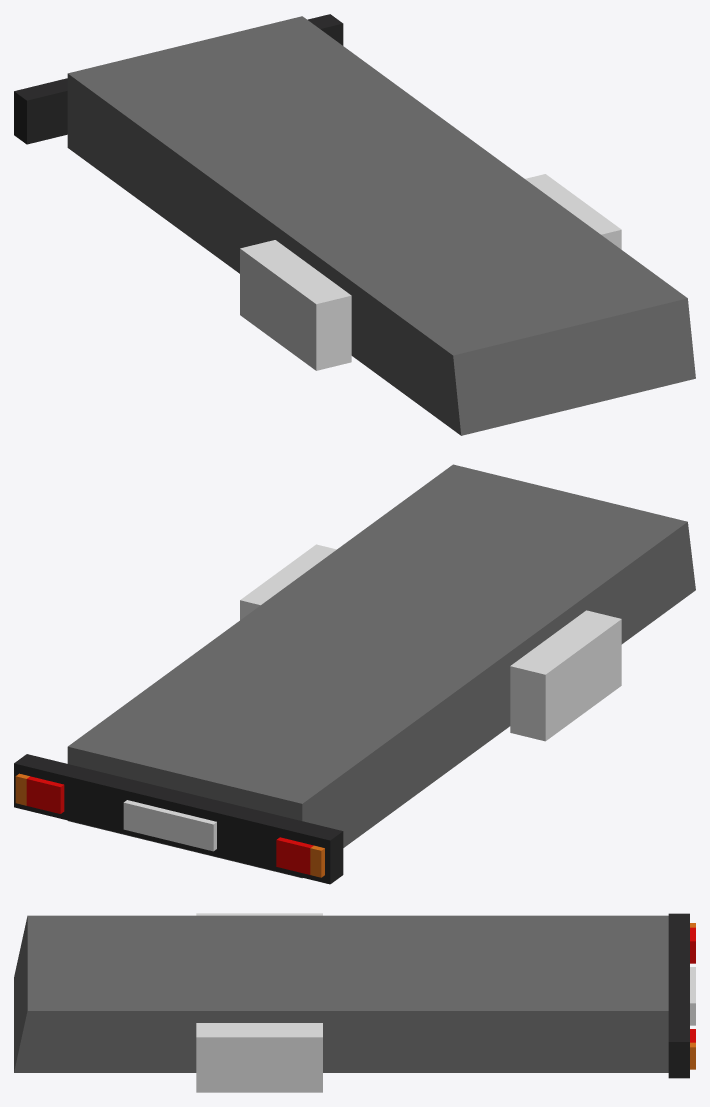
File: TruckFahrgestell.fbx
3 views of the same model, one above another, from view 1: azimuth 30°, elevation 25°; view 2: azimuth 150°, elevation 25°; view 3: azimuth 270°, elevation 25° (orthographic). The views are drawn at different scales.
Visible parts, largest first — view 1: TruckFahrgestell; view 2: TruckFahrgestell; view 3: TruckFahrgestell.
Boxes of the visible parts, <box> form: TruckFahrgestell: <box>14,14,695,435</box>; TruckFahrgestell: <box>14,464,695,884</box>; TruckFahrgestell: <box>14,913,695,1092</box>.
Bounding box in the file's own units: 233 × 56.92 × 522.
